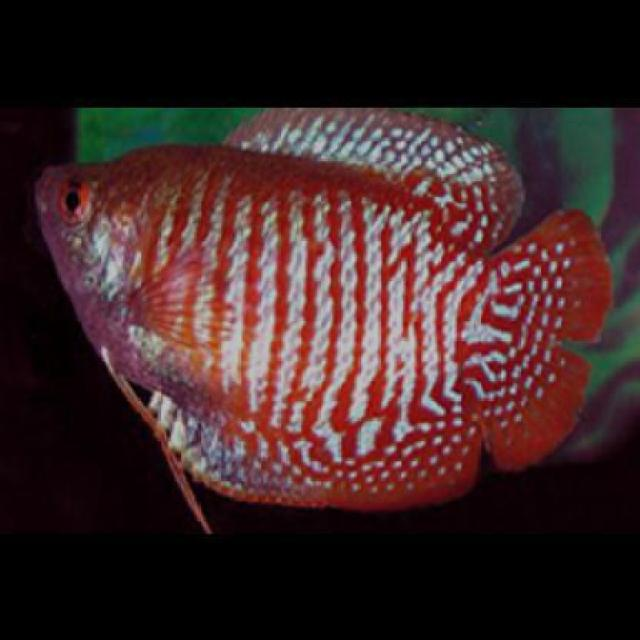Gourami: (33, 105, 610, 510)
